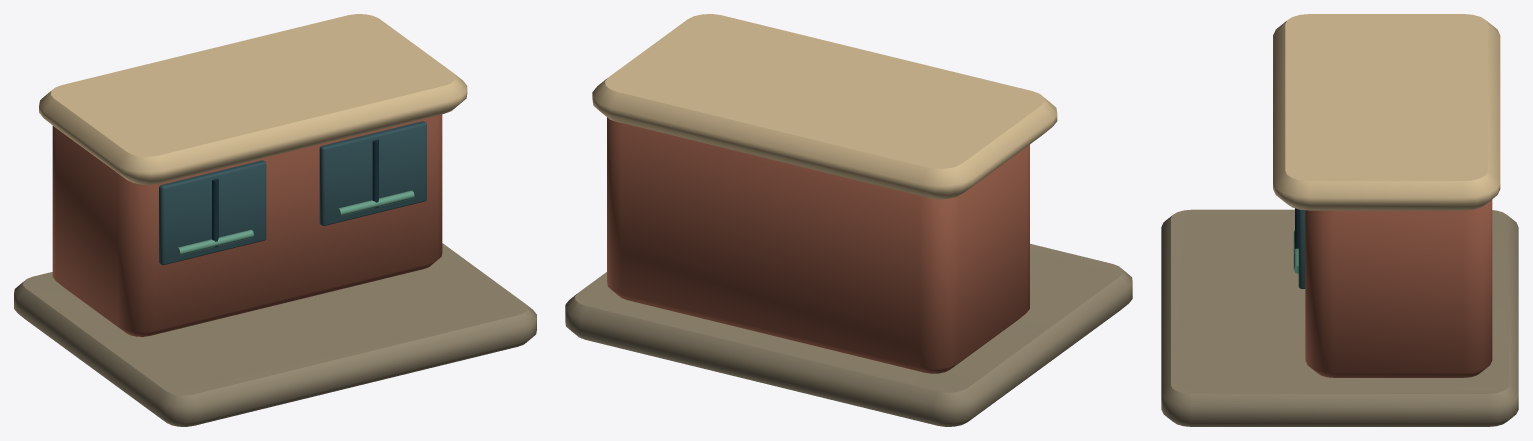
File: annex_restaurant_3.glb
The picture shows the model from 3 angles, left to right: view 1: azimuth 30°, elevation 25°; view 2: azimuth 150°, elevation 25°; view 3: azimuth 270°, elevation 25°; orthographic projection. The views are drawn at different scales.
Parts seen in each view (by area): view 1: Annex_restaurant_3; view 2: Annex_restaurant_3; view 3: Annex_restaurant_3.
Part boxes in pixels (x1=…): Annex_restaurant_3: x1=14, y1=14, x2=536, y2=426; Annex_restaurant_3: x1=565, y1=14, x2=1132, y2=426; Annex_restaurant_3: x1=1161, y1=14, x2=1518, y2=426.
Size of the model in its own units: 2.24 by 1.29 by 1.76.
